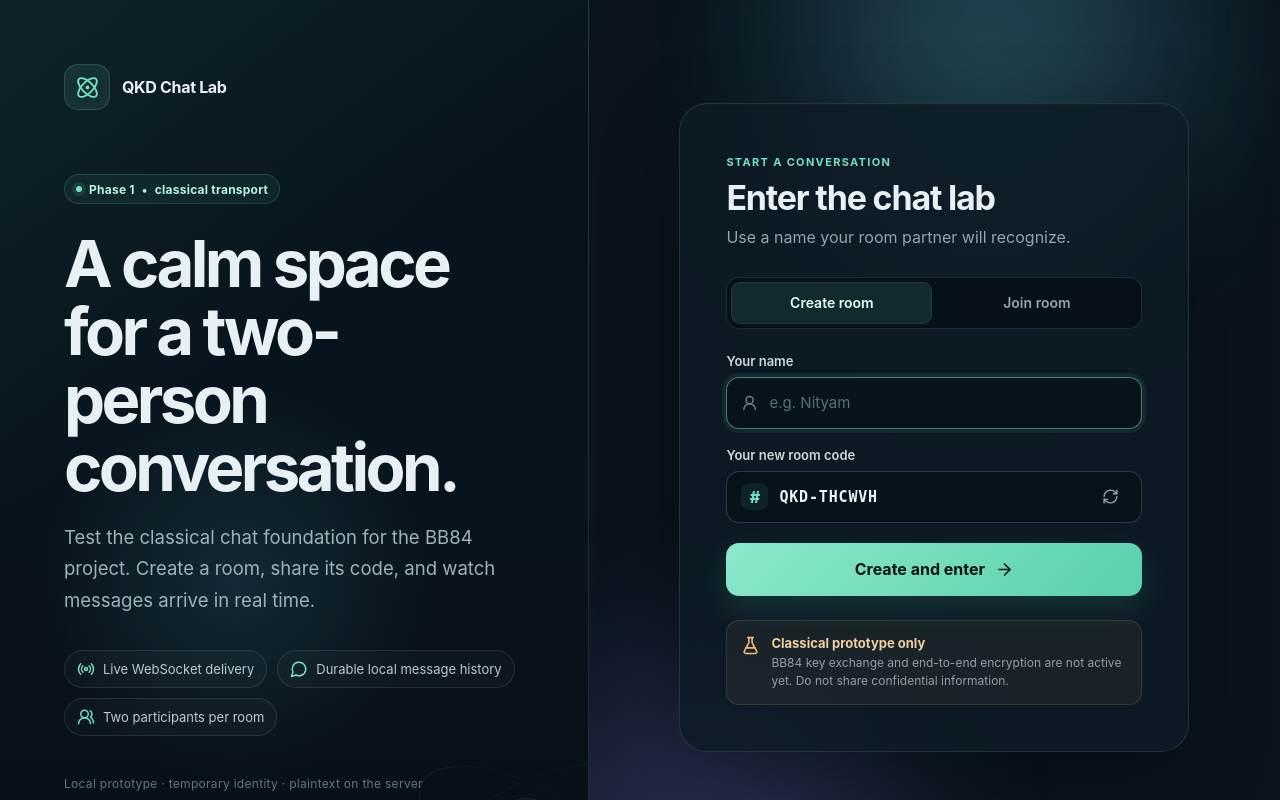
Test: Phase-1 chat experience › treats a full room as terminal instead of reconnecting
Click the button "Join room" at (1037, 303), box [936,282,1137,324]
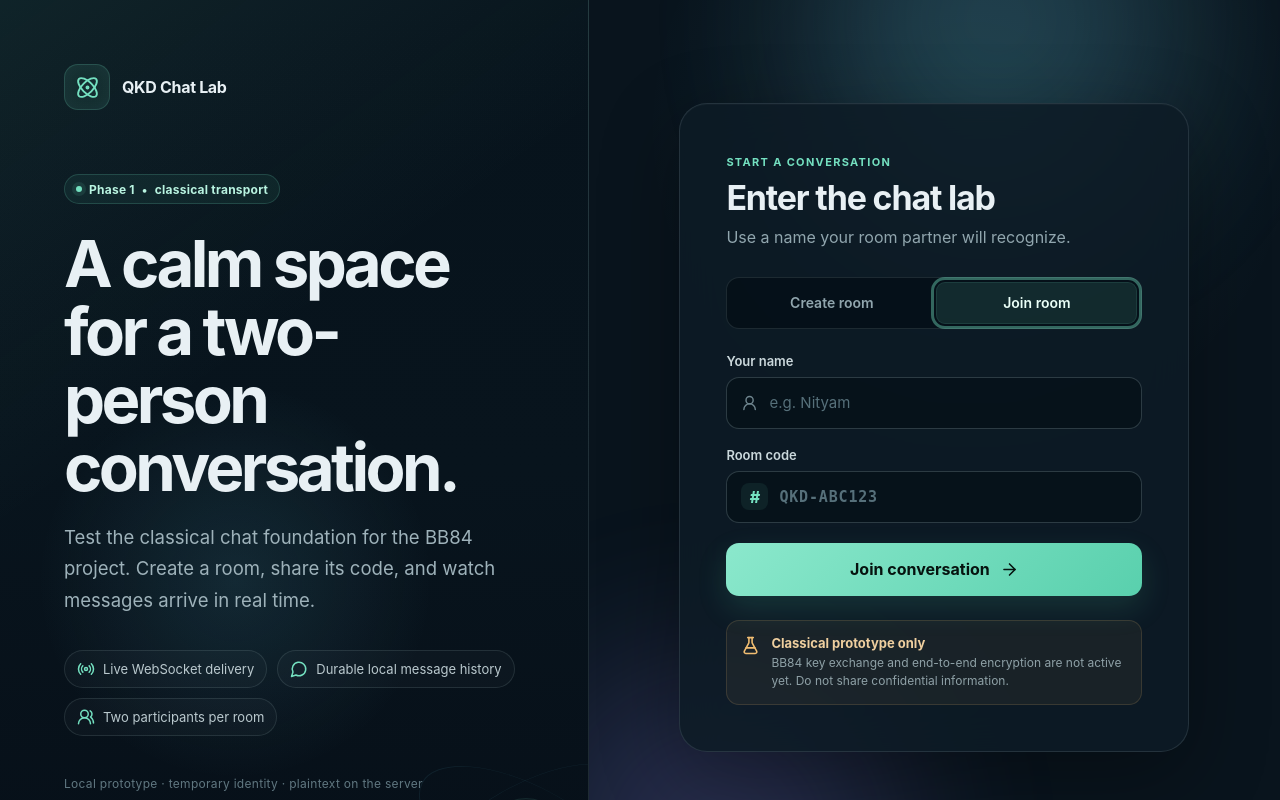
Type "Asha" into the field labelled "Your name" at (943, 403), box [758,378,1127,428]
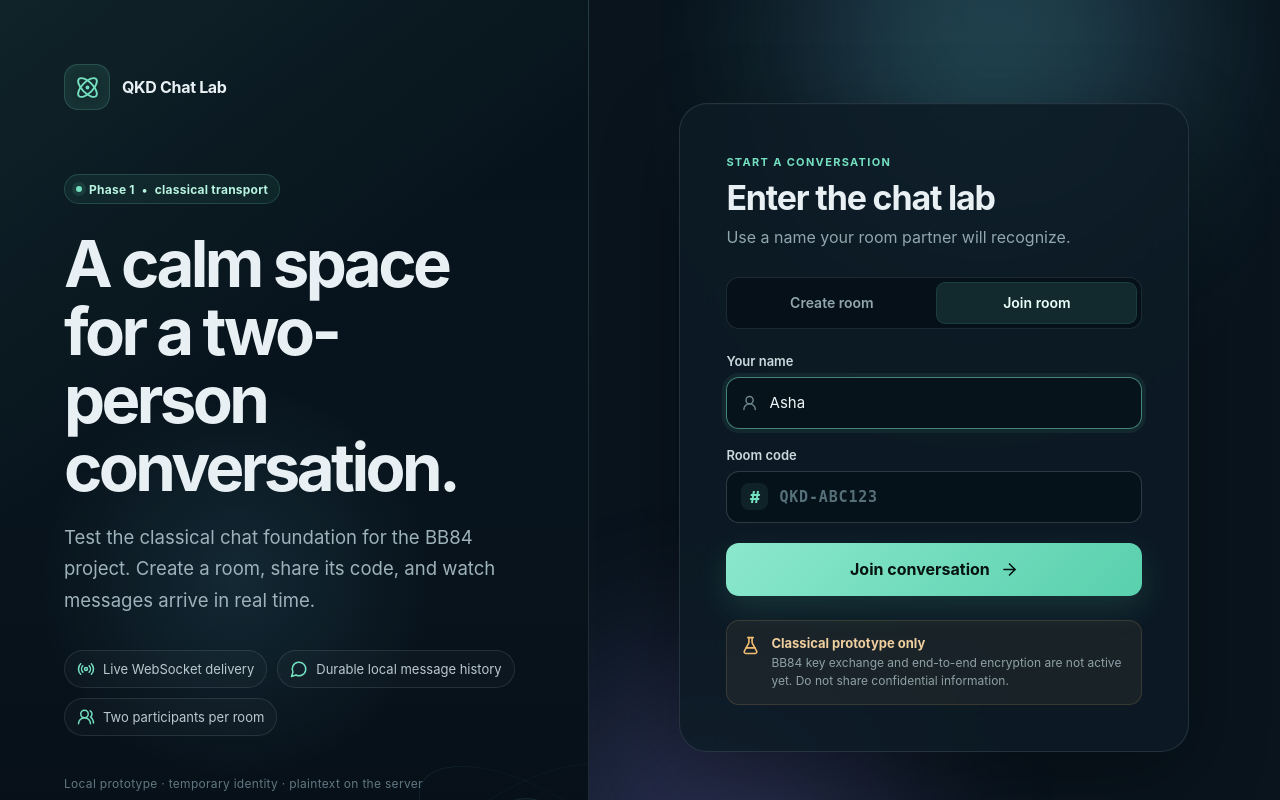
Type "room-42" into the field labelled "Room code" at (948, 497), box [768,472,1127,522]
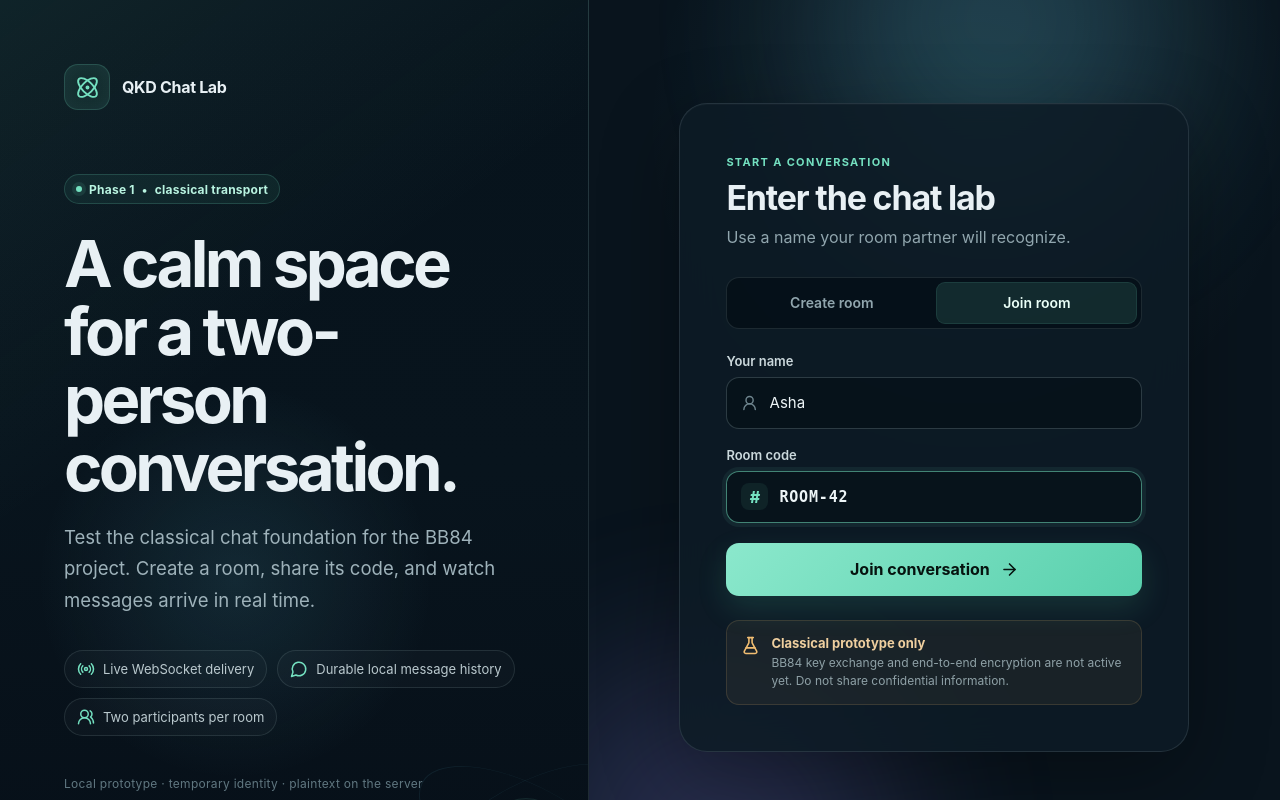
Click the button "Join conversation" at (934, 569), box [726,543,1142,596]
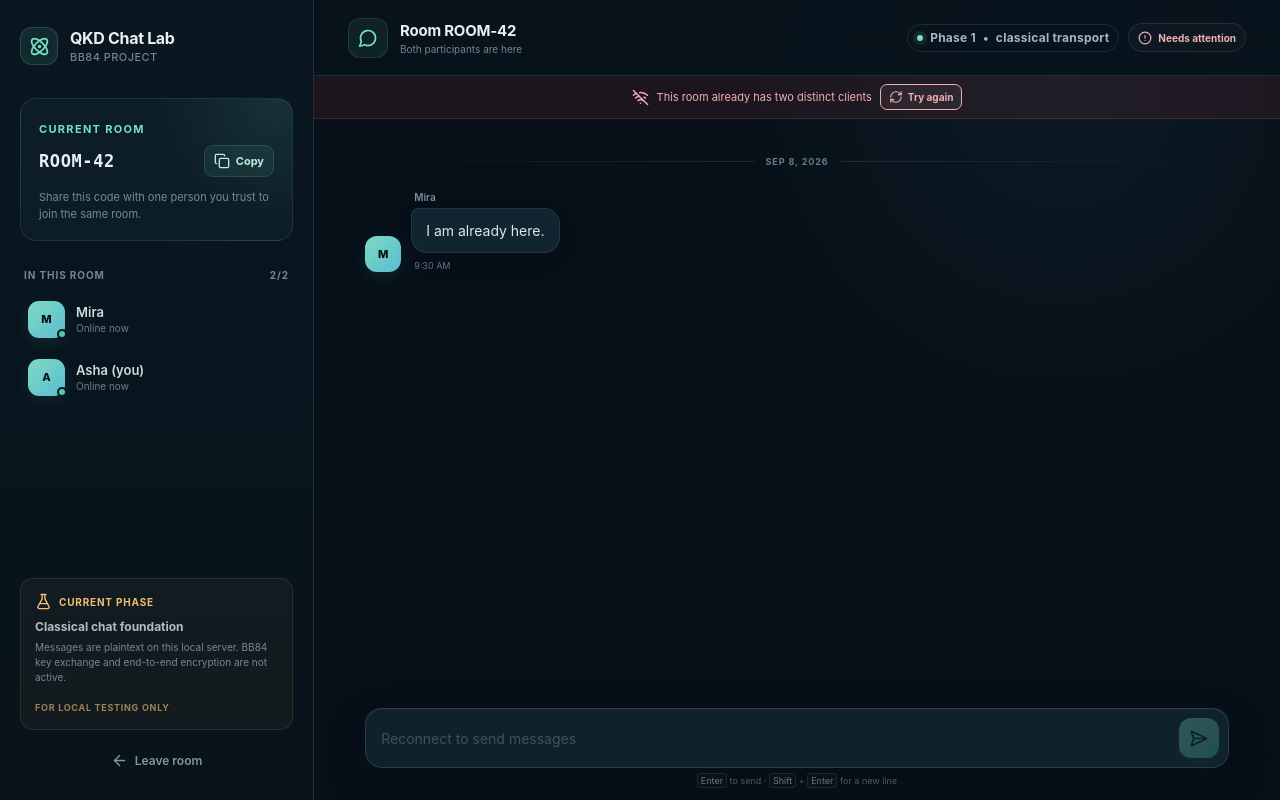
Expected: the text "This room already has two distinct clients" is shown, [657,90,872,104]
